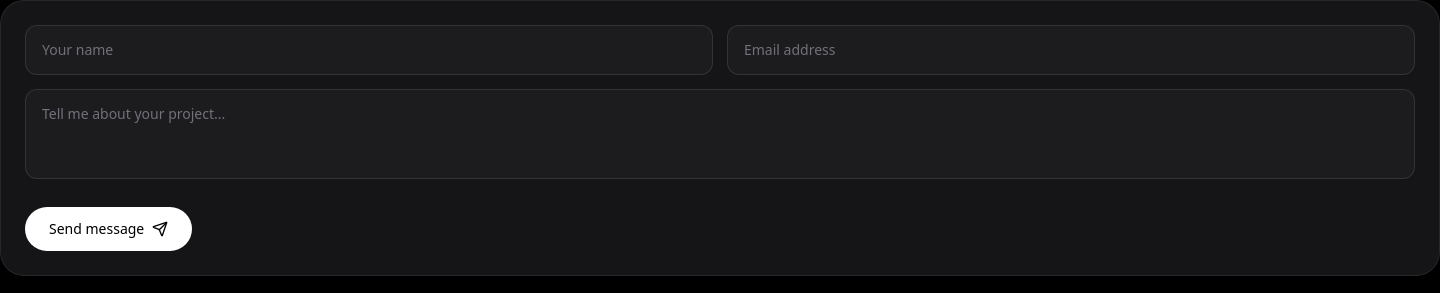
Test case: ContactForm › shows a validation error and sends nothing when fields are missing
Type "Ada" into the field labelled "Your name" at (369, 50), box [25,25,713,75]
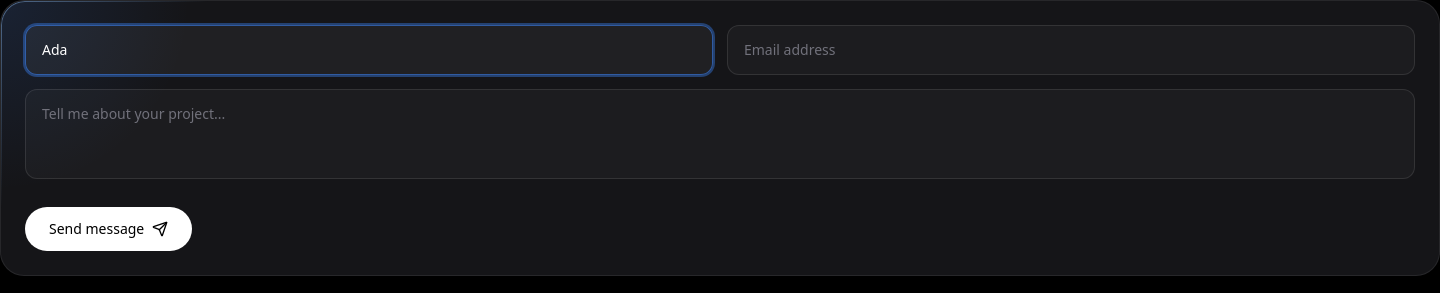
Type "ada@example.com" into the field labelled "Email address" at (1071, 50), box [727,25,1415,75]
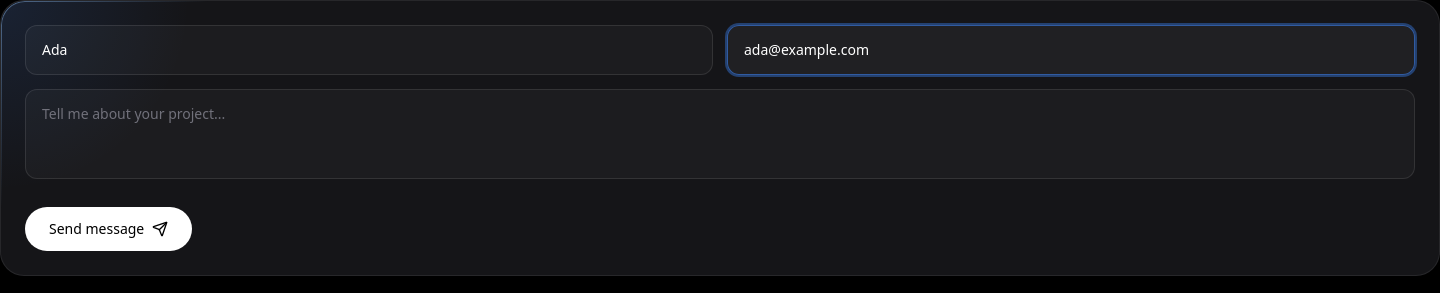
Click the button "Send message" at (109, 229), box [25,207,192,251]
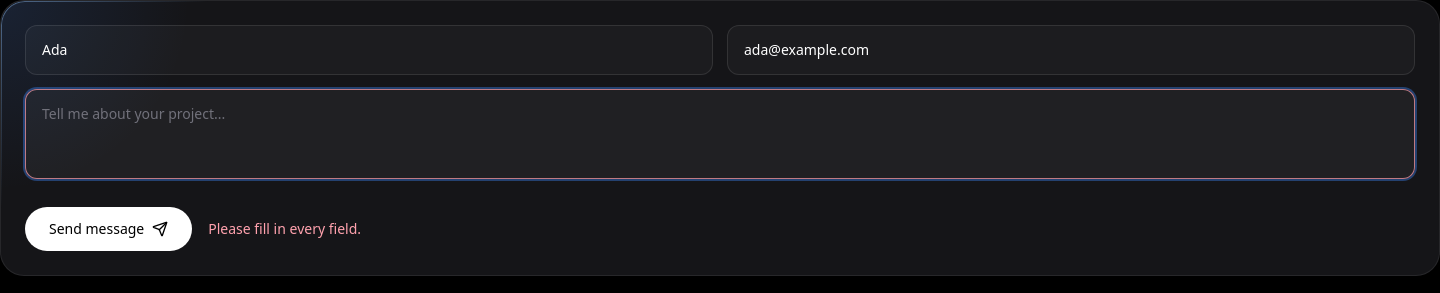
Now the message reads "Please fill in every field.", box [208,219,361,238]
